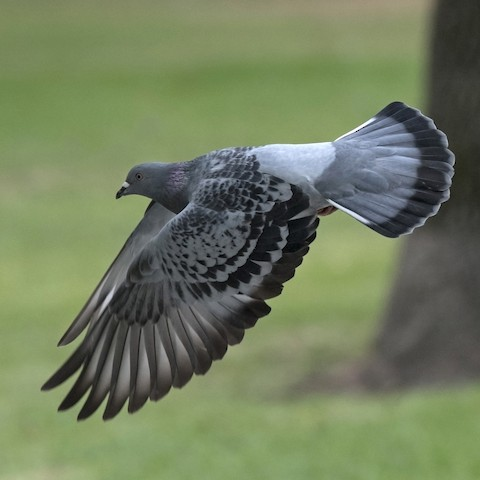pigeon: (36, 95, 467, 432)
